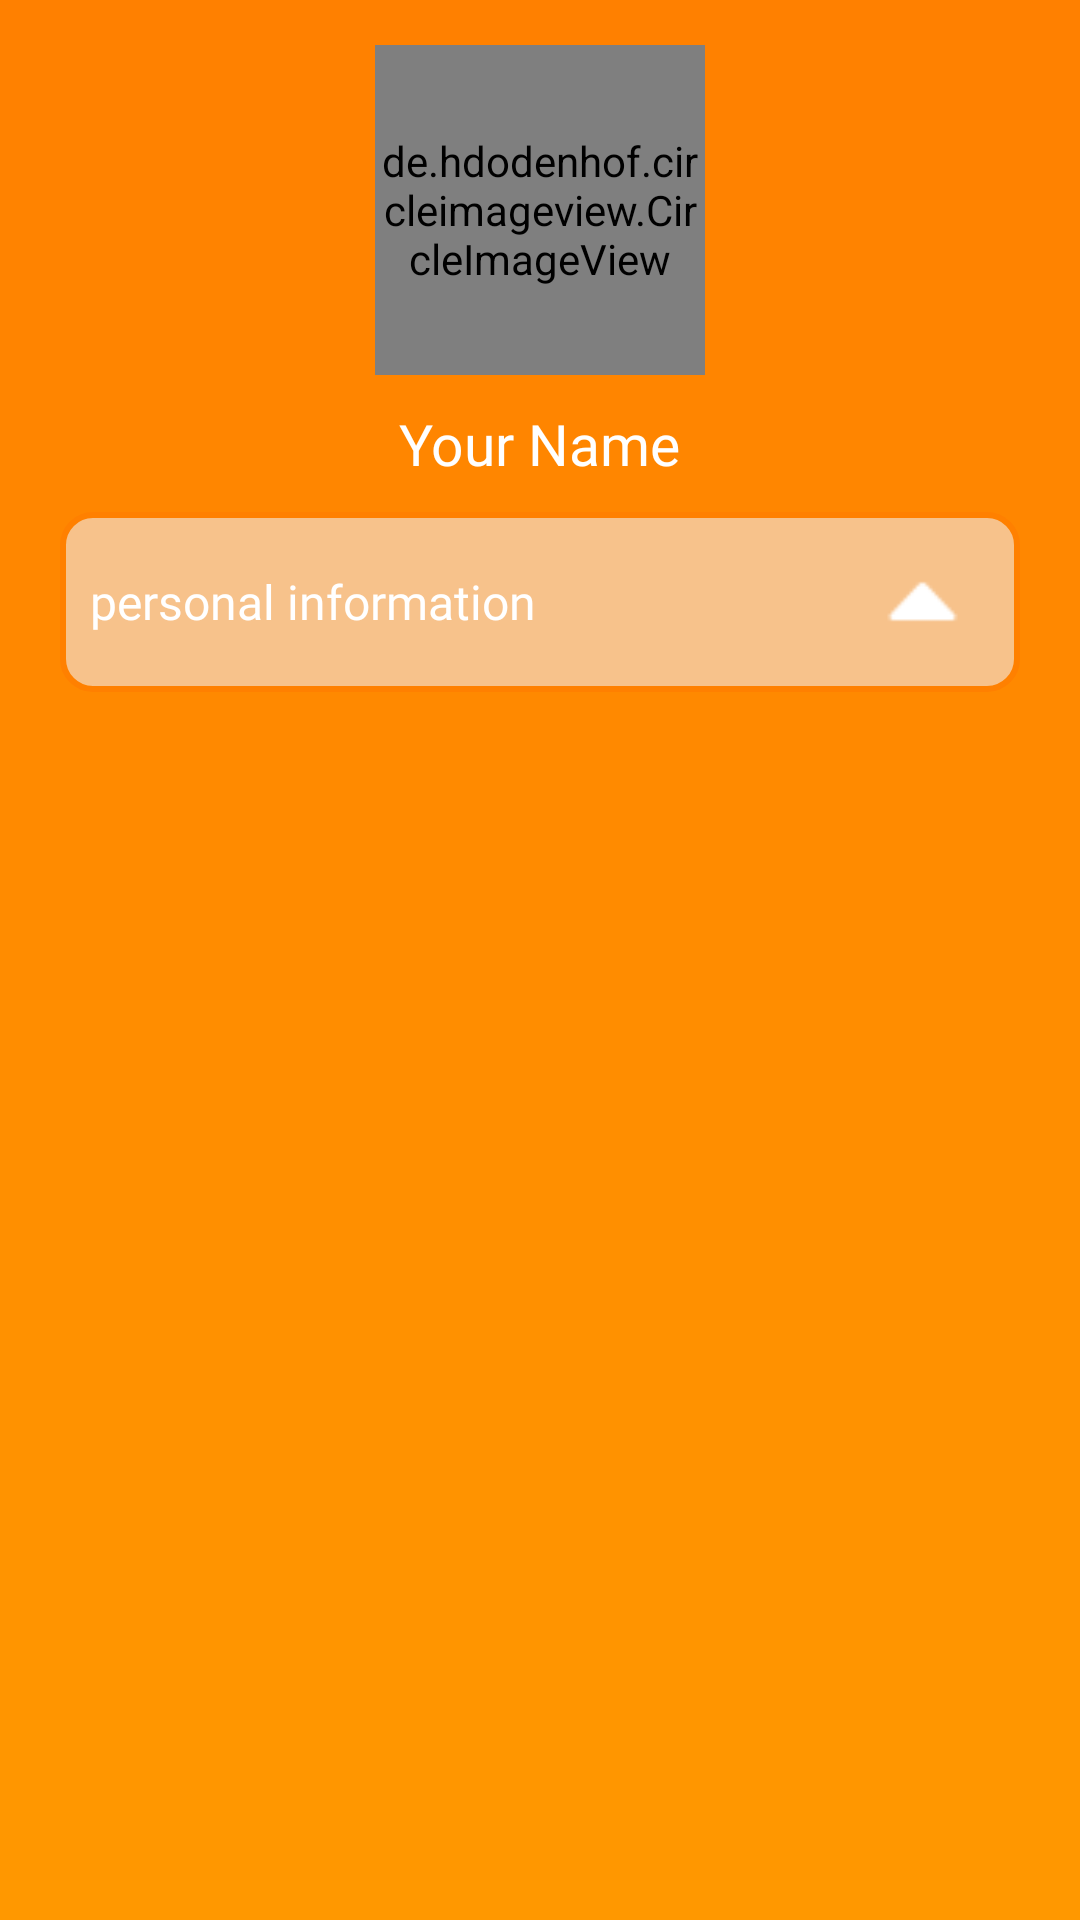

Point at icon controls on the screen. Image size 1080 × 1920, points as point (x, y).
up arrow: point (922, 601)
